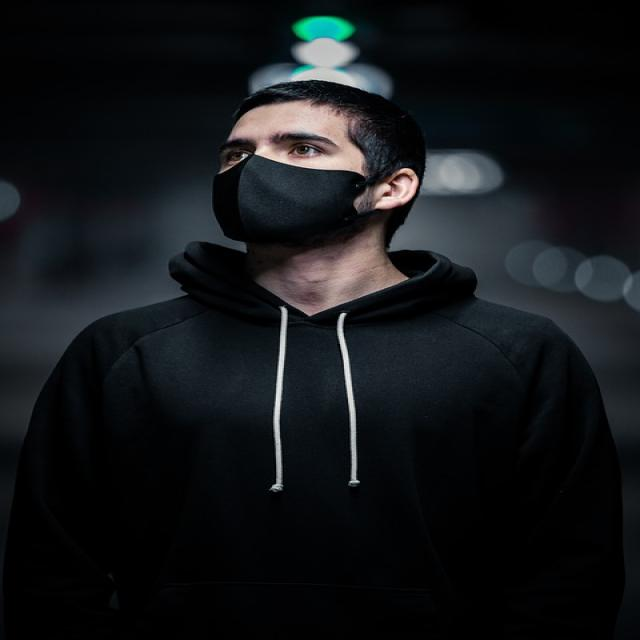1_mascarilla: (208, 162, 369, 243)
